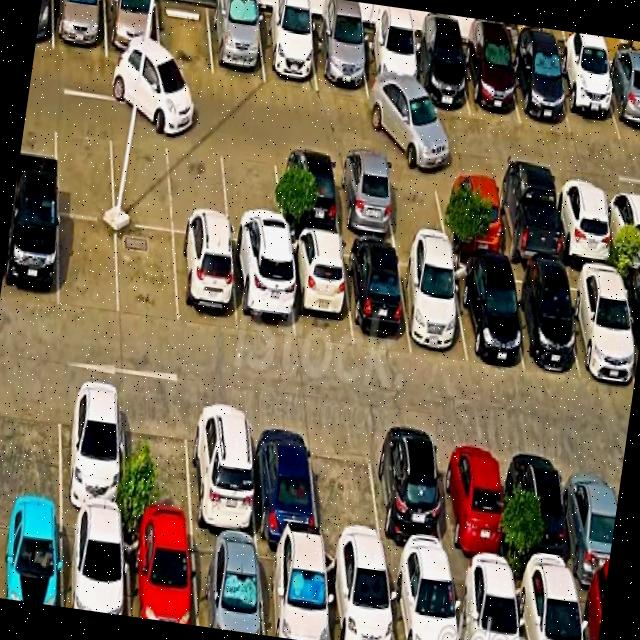empty: (310, 422, 384, 558), (124, 392, 193, 531), (0, 375, 61, 509), (221, 141, 284, 248), (110, 125, 172, 231), (117, 224, 178, 327), (169, 134, 229, 238), (55, 116, 114, 220), (59, 215, 118, 315), (384, 161, 448, 247), (157, 0, 213, 75)
occupied: (369, 430, 449, 566), (436, 436, 508, 575), (188, 402, 257, 540), (249, 411, 319, 546), (61, 381, 126, 520), (509, 445, 575, 581), (564, 269, 636, 383), (451, 260, 524, 371), (505, 266, 579, 373), (397, 250, 467, 363), (191, 533, 264, 635), (343, 242, 411, 351), (562, 453, 618, 585), (125, 524, 197, 626), (287, 236, 352, 346), (258, 543, 330, 640), (63, 514, 129, 616), (174, 233, 238, 332), (231, 243, 295, 341), (324, 551, 394, 640), (493, 176, 561, 267), (0, 507, 61, 607), (0, 203, 58, 308), (439, 169, 504, 257), (275, 149, 340, 237), (332, 155, 396, 242), (387, 563, 458, 640), (555, 57, 620, 140), (553, 183, 615, 268), (510, 47, 570, 132), (450, 568, 520, 640), (461, 41, 520, 124), (409, 39, 470, 116), (258, 13, 317, 91), (208, 4, 265, 84), (359, 31, 418, 107), (513, 576, 582, 640), (312, 24, 367, 97), (105, 0, 160, 65), (601, 62, 640, 143), (53, 0, 107, 57), (604, 188, 640, 270), (620, 275, 640, 369), (575, 582, 606, 640)
